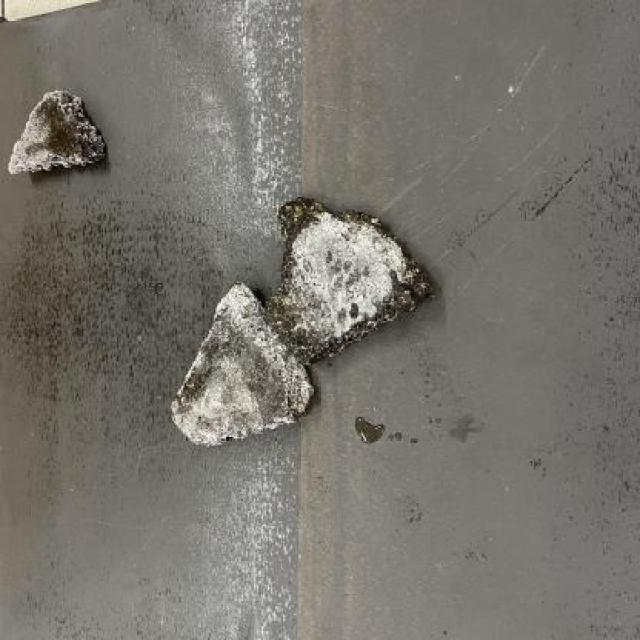Road Debris: (230, 312, 296, 437), (270, 259, 338, 350), (36, 99, 110, 173), (180, 308, 228, 406), (389, 256, 440, 330), (280, 196, 342, 250)
